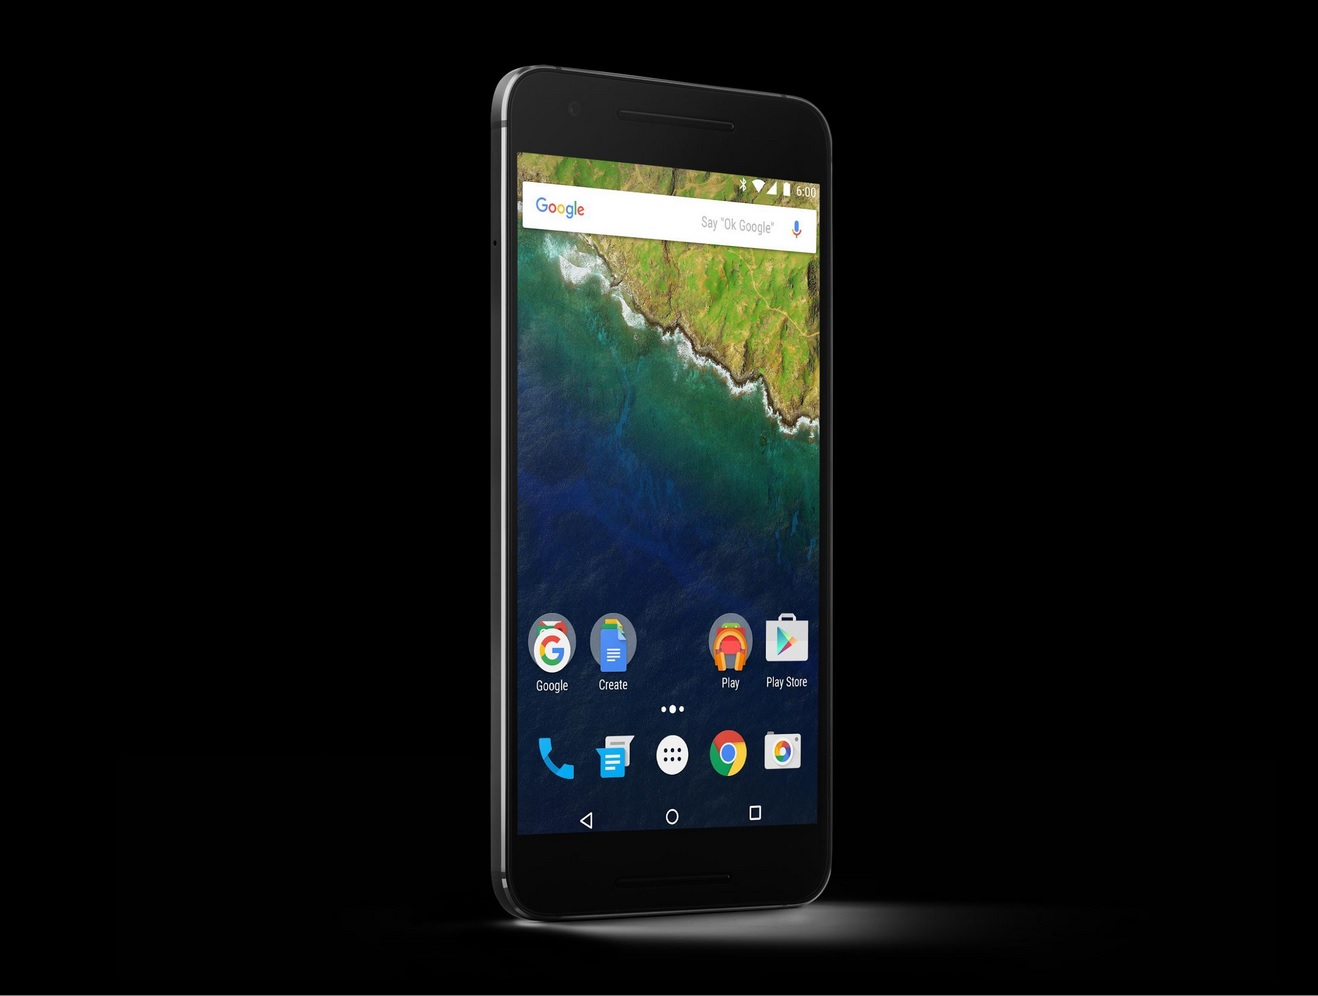smartphone: (490, 65, 834, 924)
